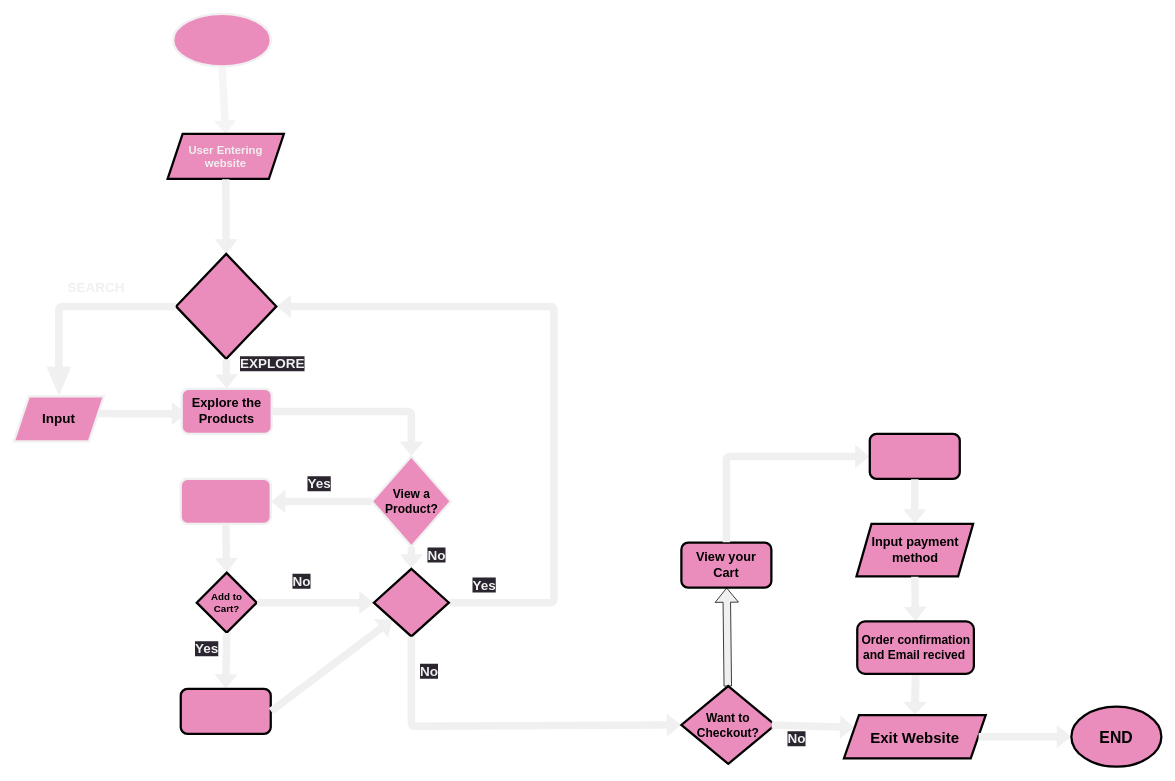
The diagram is 1175 pixels wide and 781 high, and some of its shapes have lost their labels. The box of each missing label's shape, as (x1, y1, x2, y2) in pixels:
Added to Cart Confirmation: (179, 687, 272, 735)
Continue shopping?: (372, 567, 450, 637)
Payment: (868, 432, 961, 480)
Saerch OR Explore: (175, 252, 277, 360)
Start: (172, 12, 272, 67)
View Product: (179, 477, 272, 525)
